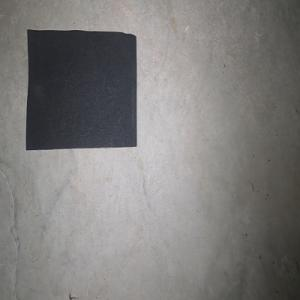PaintChip: (25, 29, 137, 150)
